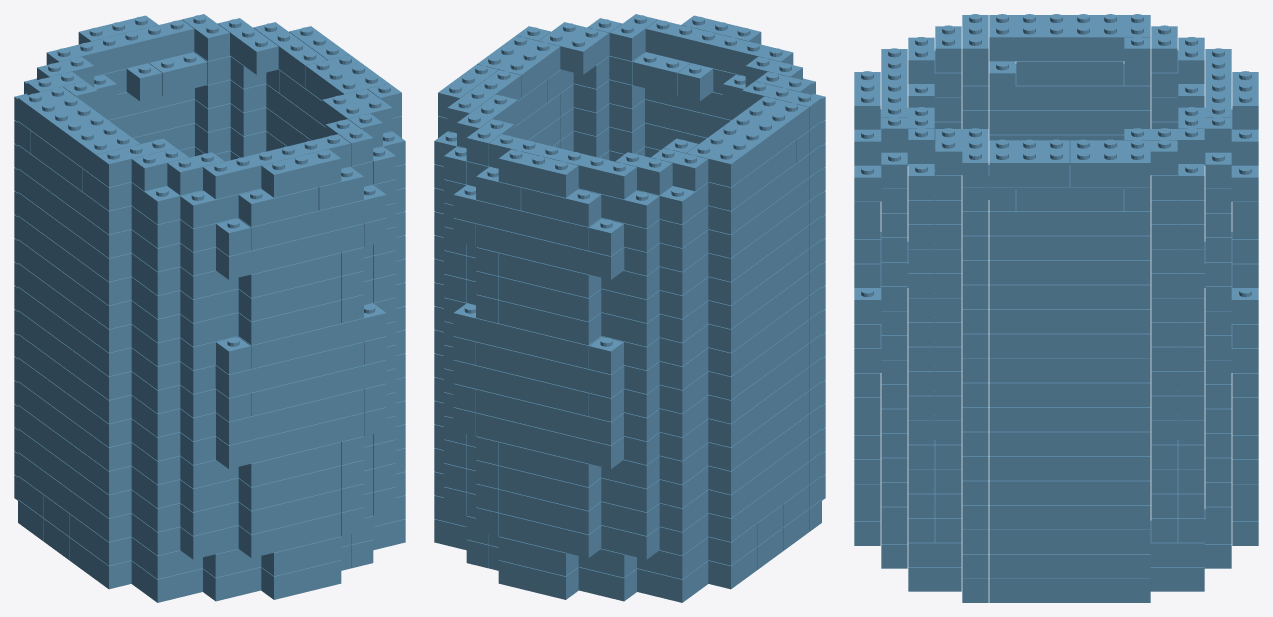
File: 063_bookshelf_L3.glb
The picture shows the model from 3 angles, left to right: view 1: azimuth 30°, elevation 25°; view 2: azimuth 150°, elevation 25°; view 3: azimuth 270°, elevation 25°; orthographic projection. The views are drawn at different scales.
Size of the model in its own units: 12.98 by 18.13 by 14.98.
